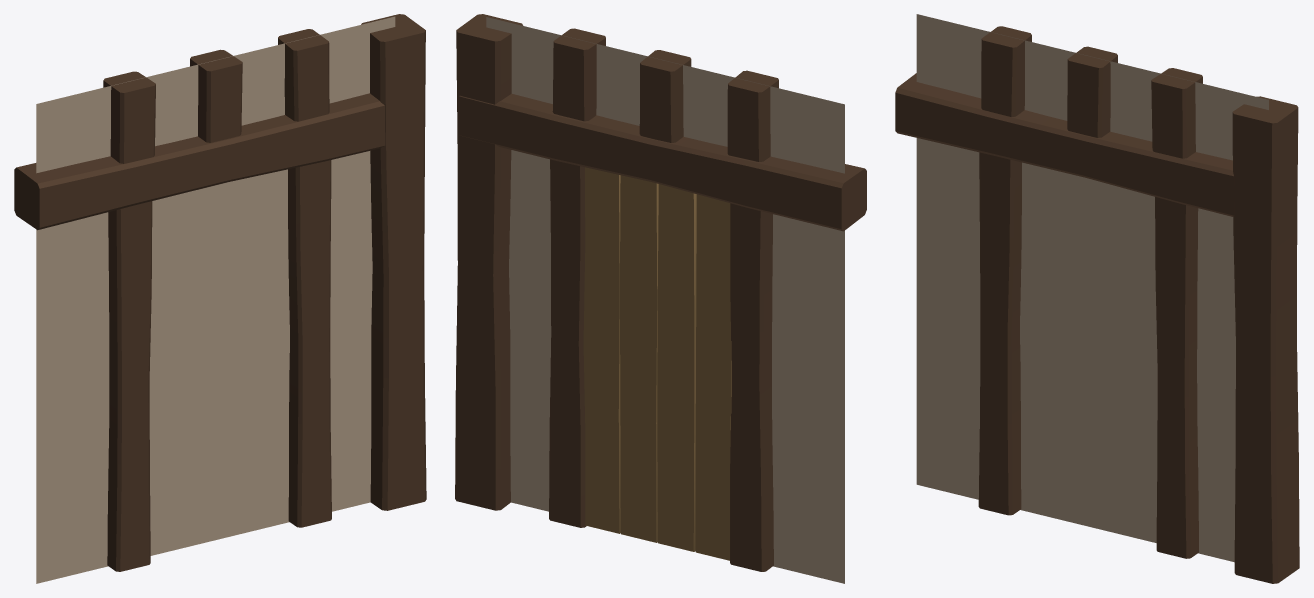
File: DoorWall1.fbx
The picture shows the model from 3 angles, left to right: view 1: azimuth 30°, elevation 25°; view 2: azimuth 150°, elevation 25°; view 3: azimuth 330°, elevation 25°; orthographic projection.
Visible parts, largest first — view 1: Cube.063; view 2: Cube.063; view 3: Cube.063.
Part boxes in pixels (left/top/right/bottom): Cube.063: left=14, top=14, right=426, bottom=583; Cube.063: left=455, top=14, right=866, bottom=583; Cube.063: left=895, top=14, right=1299, bottom=583.
Size of the model in its own units: 2.17 by 2.56 by 0.2466.
